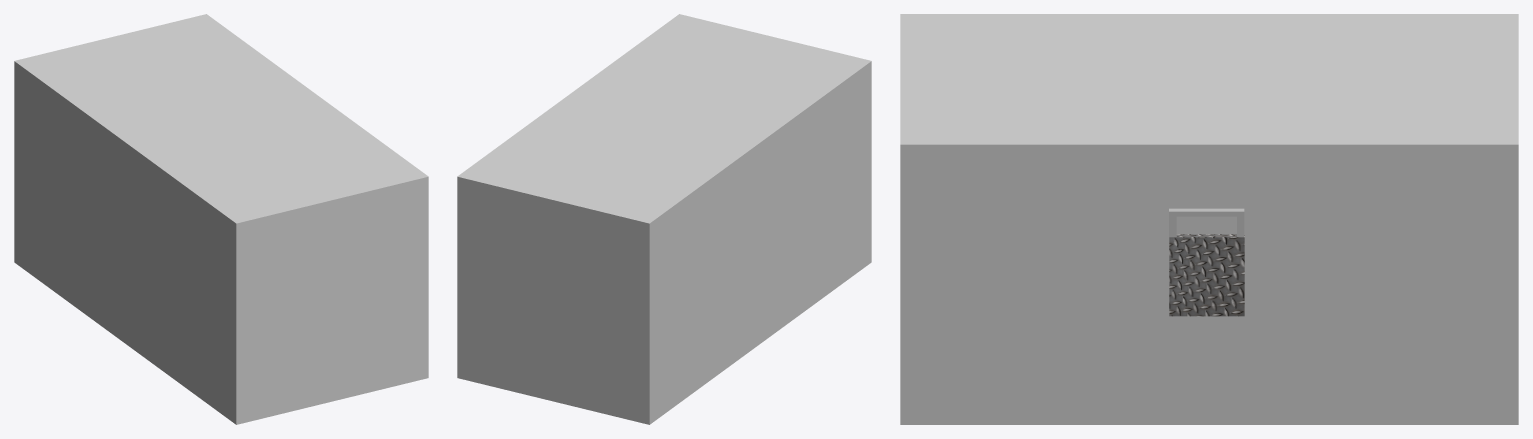
File: map.fbx
3 views of the same model, side by side, from view 1: azimuth 30°, elevation 25°; view 2: azimuth 150°, elevation 25°; view 3: azimuth 270°, elevation 25° (orthographic). The views are drawn at different scales.
Parts seen in each view (by area): view 1: Cube; view 2: Cube; view 3: Cube, Cube.001.
Boxes of the visible parts, x1,y1,x2,y2 form: Cube: [14, 14, 428, 424]; Cube: [457, 14, 871, 424]; Cube: [900, 14, 1518, 424]; Cube.001: [1169, 234, 1244, 316].
Size of what is drawn, in the model's own units: 1126 by 1100 by 2200.
